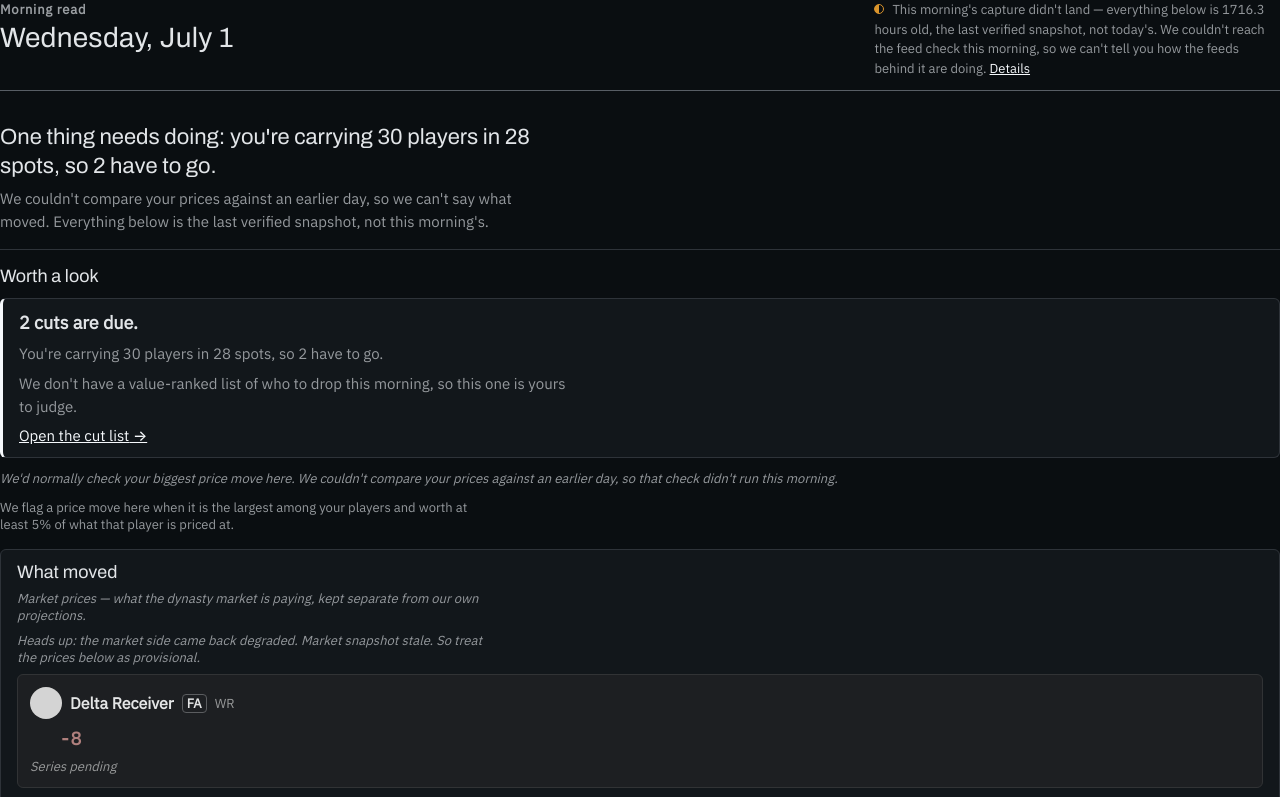
Test case: DG-111 the stale morning still says it is stale, in prose › names a degraded feed in prose and keeps the raw reason in the receipt sheet
The width and height of the screenshot is (1280, 797).
Expected: the text with test id "wc-market-degraded" shows "Market snapshot stale", [17,632,482,666]
Click the button with test id "wc-health-sheet-toggle" at (1010, 68), box [990,58,1030,78]
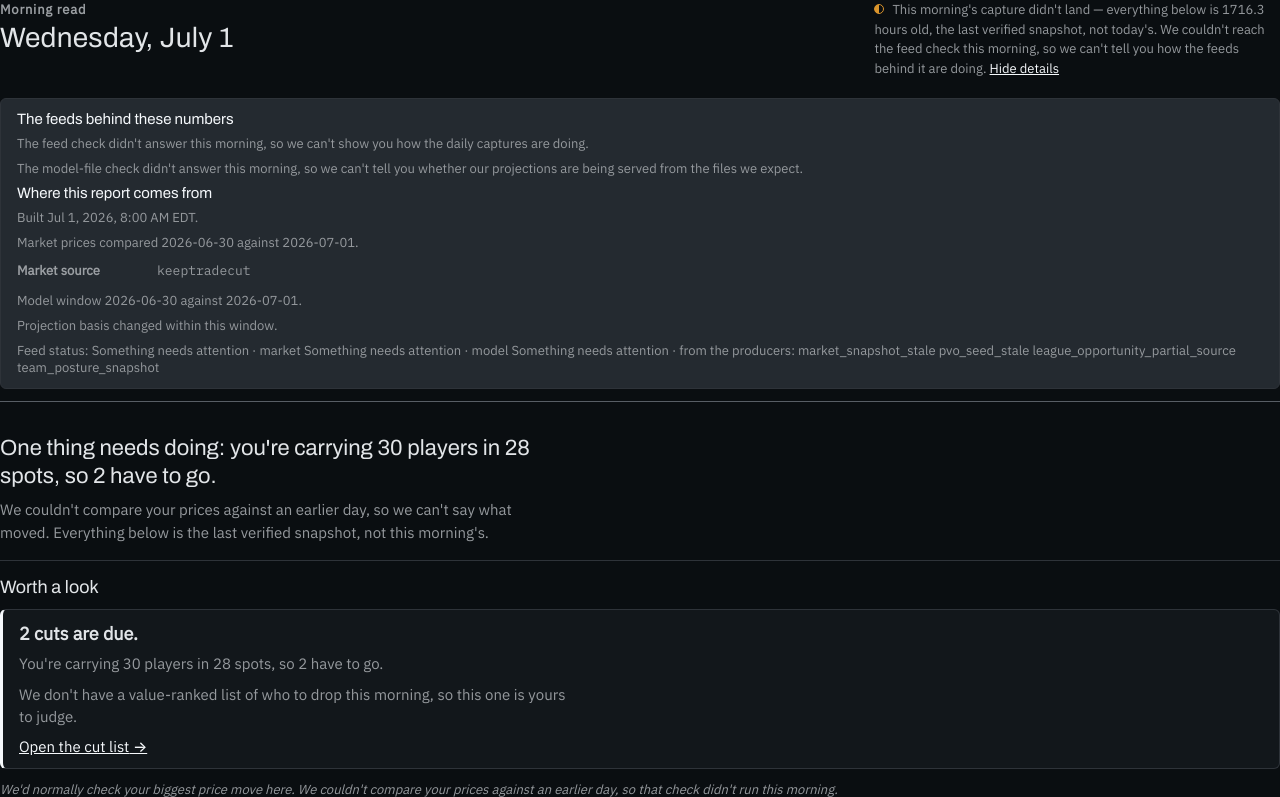
Now the text with test id "wc-provenance" shows "market_snapshot_stale", box [17,342,1236,376]
Now the text with test id "wc-provenance" shows "pvo_seed_stale", box [17,342,1236,376]
